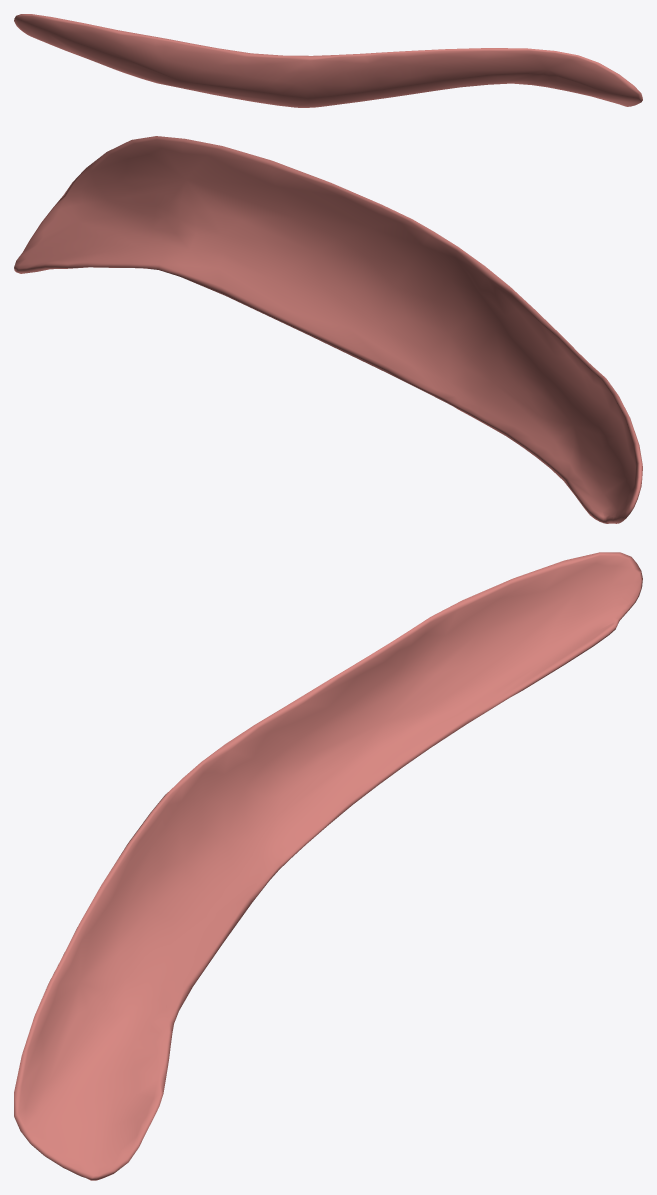
The picture shows the model from 3 angles, top to bottom: view 1: azimuth 30°, elevation 25°; view 2: azimuth 150°, elevation 25°; view 3: azimuth 270°, elevation 25°; orthographic projection. The views are drawn at different scales.
Parts seen in each view (by area): view 1: ZA_26b4127597d45df8; view 2: ZA_26b4127597d45df8; view 3: ZA_26b4127597d45df8.
Part boxes in pixels (x1,y1,x2,y2): ZA_26b4127597d45df8: [14, 14, 642, 107]; ZA_26b4127597d45df8: [14, 136, 642, 523]; ZA_26b4127597d45df8: [14, 552, 642, 1180].
Size of the model in its own units: 0.0654 by 0.0144 by 0.04.
